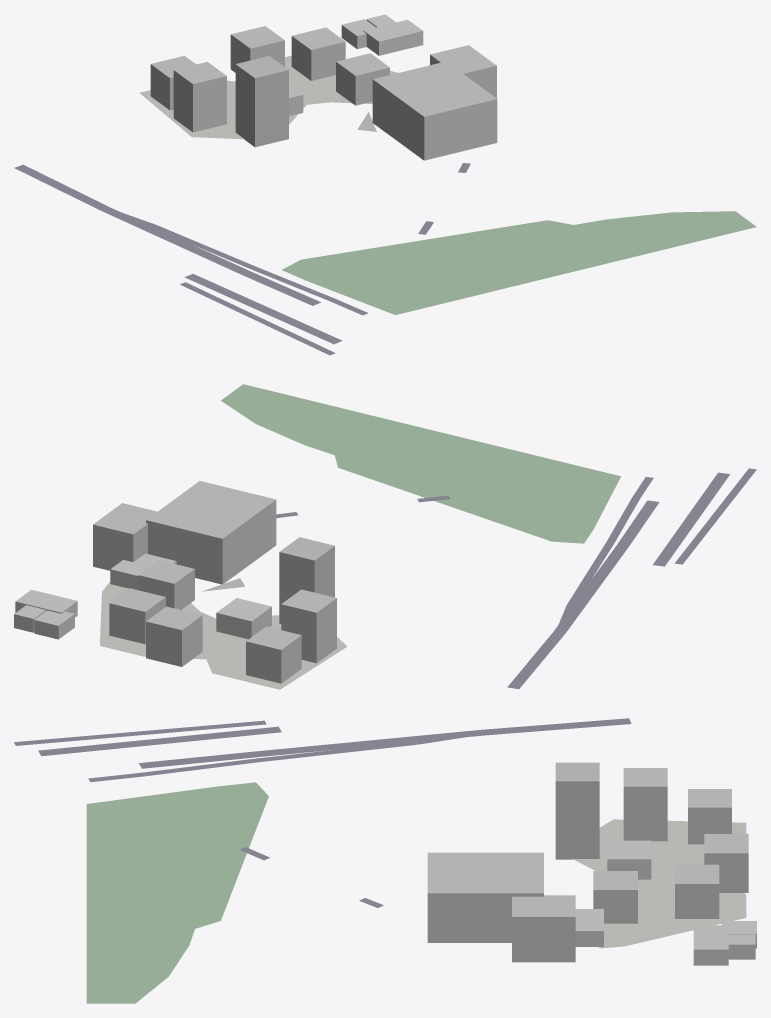
The model's file is 128_79_mid.glb.
The picture shows the model from 3 angles, top to bottom: view 1: azimuth 30°, elevation 25°; view 2: azimuth 150°, elevation 25°; view 3: azimuth 270°, elevation 25°; orthographic projection. The views are drawn at different scales.
Bounding box in the file's own units: 499 × 65.4 × 563.
